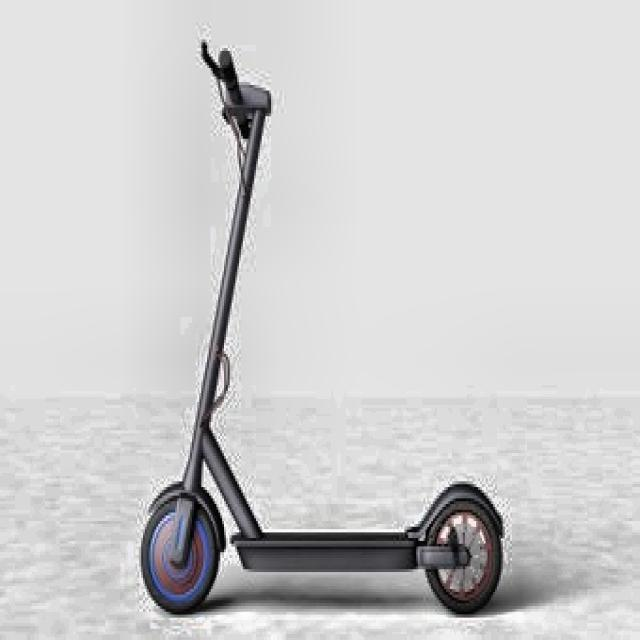bike: (137, 27, 542, 616)
car: (137, 23, 575, 614)
